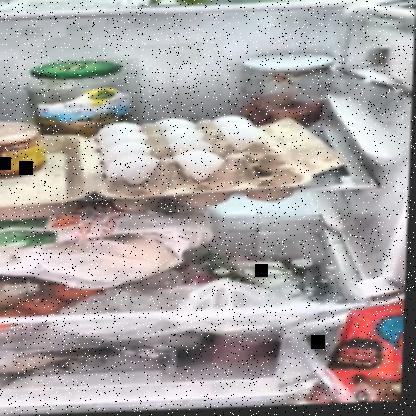eggs: (103, 118, 261, 185)
green_chillies: (155, 0, 402, 8)
